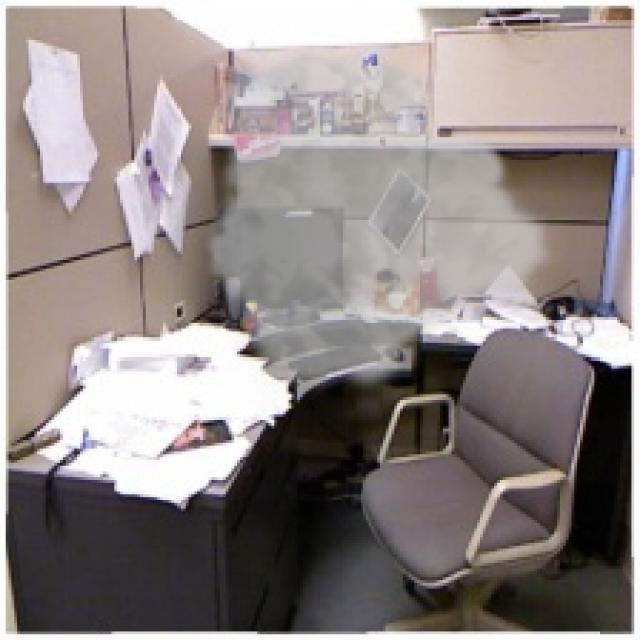Smoke: (202, 46, 558, 400)
